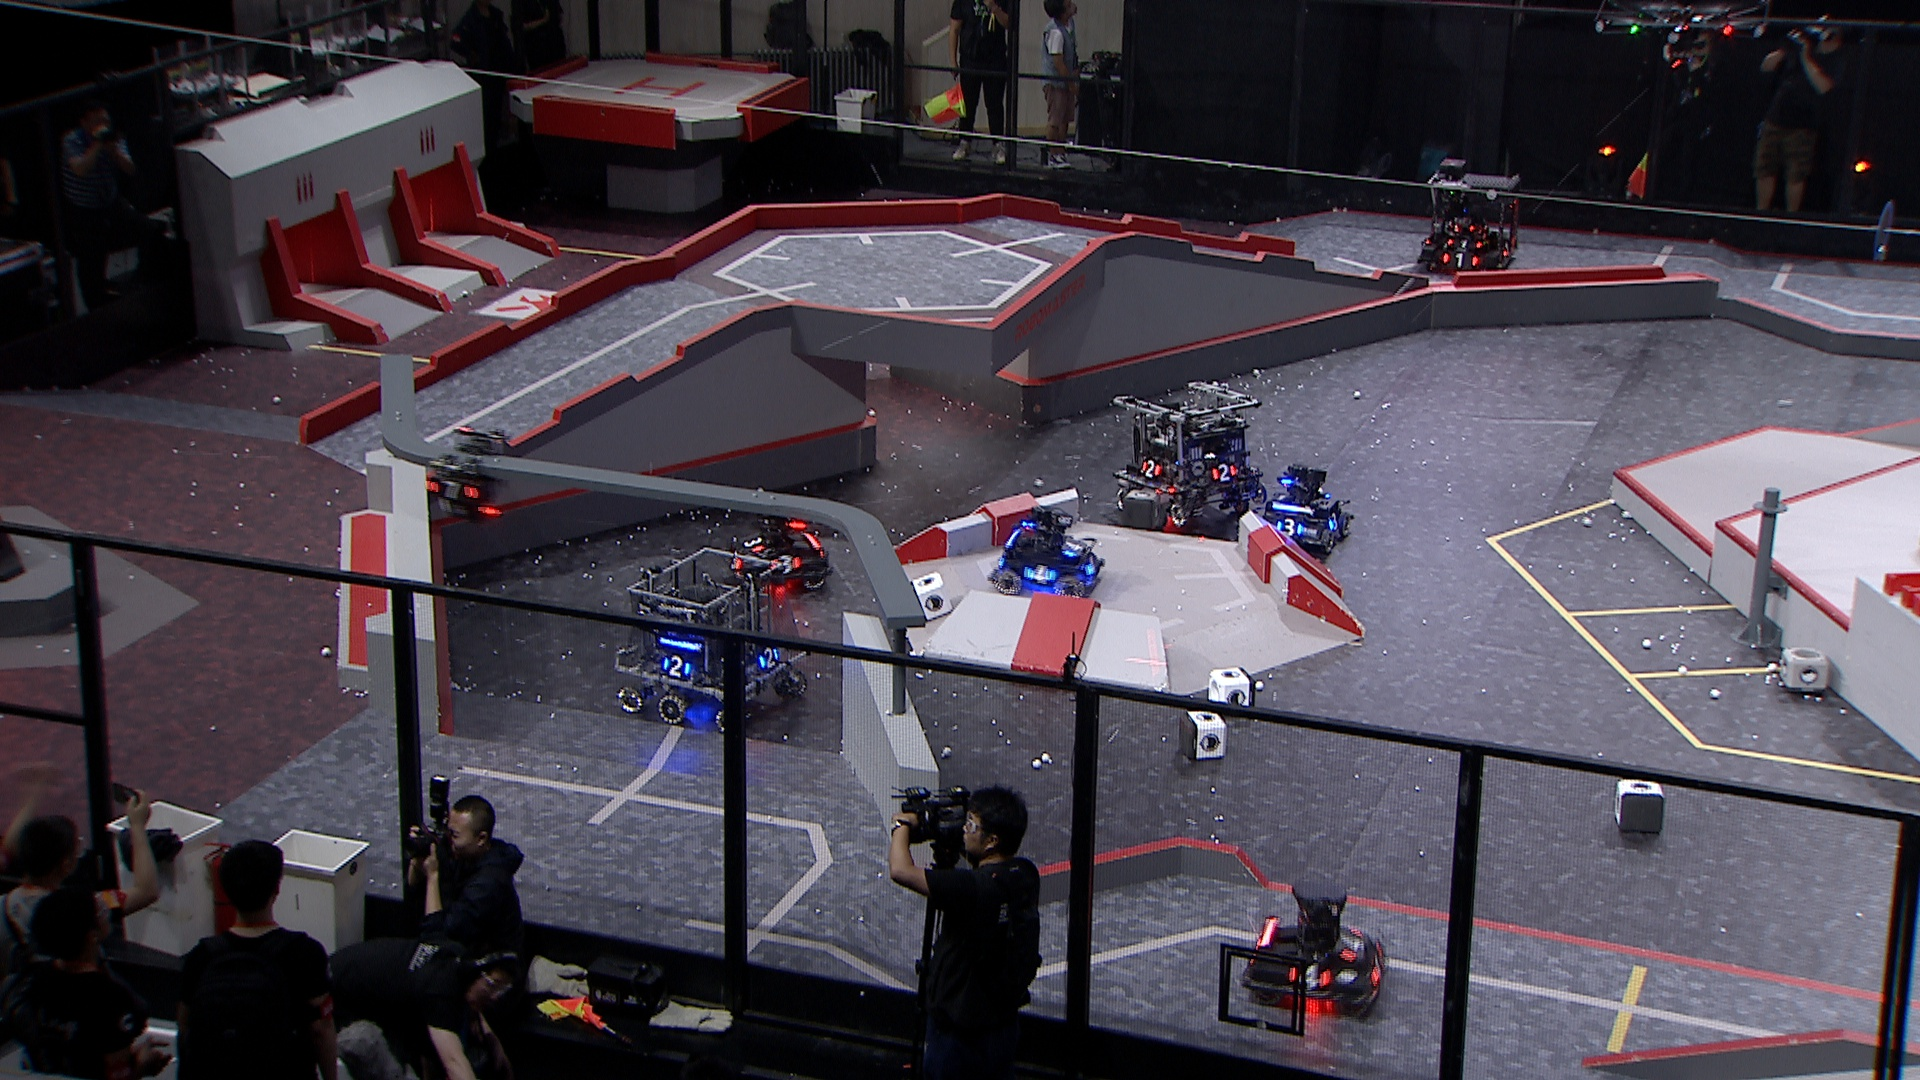armor: (1290, 960, 1333, 992), (427, 476, 481, 501), (1335, 924, 1367, 963), (1367, 942, 1387, 986), (659, 655, 694, 679), (1443, 251, 1482, 270), (1025, 564, 1059, 585), (1275, 518, 1305, 541), (1209, 462, 1240, 483), (775, 553, 802, 576), (756, 646, 781, 669), (1062, 537, 1084, 560), (1447, 237, 1486, 251), (1139, 460, 1163, 479), (1325, 510, 1344, 533), (744, 535, 766, 553), (1084, 555, 1098, 578), (1501, 243, 1514, 258)
car: (615, 547, 816, 736), (1112, 377, 1267, 535), (1240, 876, 1390, 1022), (1414, 157, 1523, 277), (986, 501, 1106, 605), (1261, 458, 1354, 560), (731, 498, 833, 589)
watcher: (425, 427, 516, 520)
